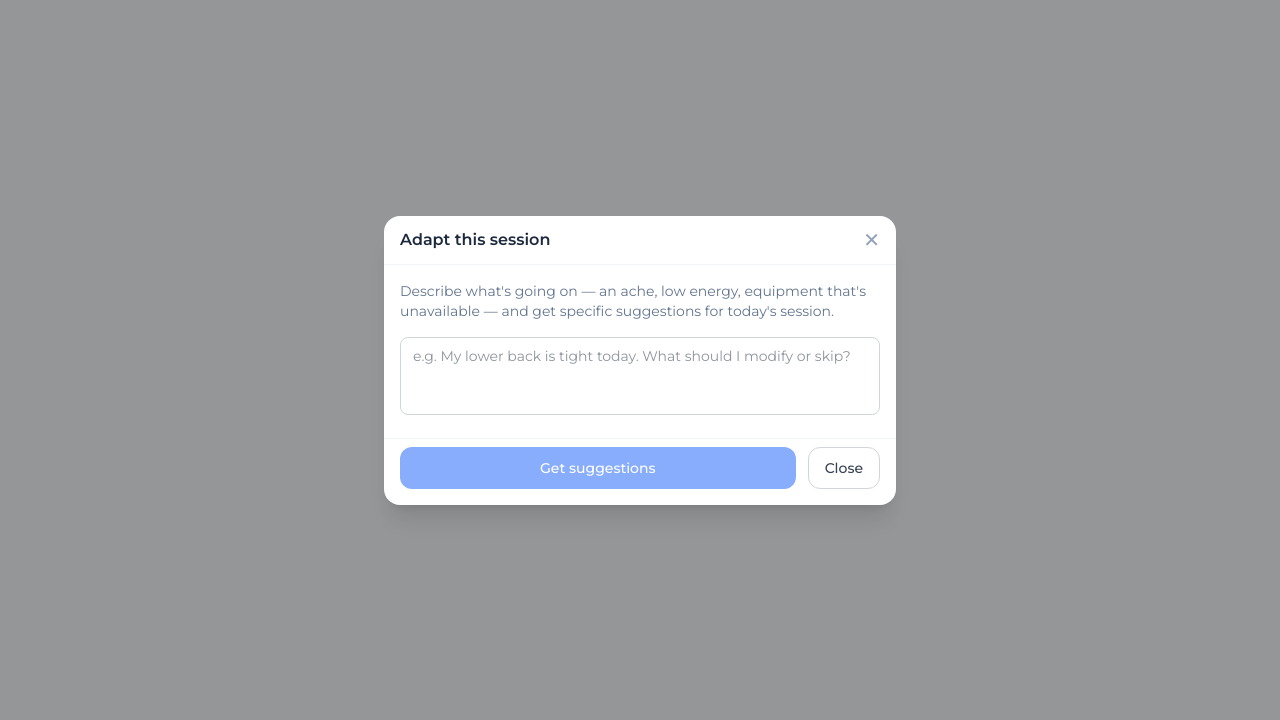
Scenario: AdaptSessionModal › renders suggestions text on success
This screenshot has width=1280, height=720.
Type "Bad knee today" into the text box.
click(640, 376); type("Bad knee today")  # box [400,336,880,414]
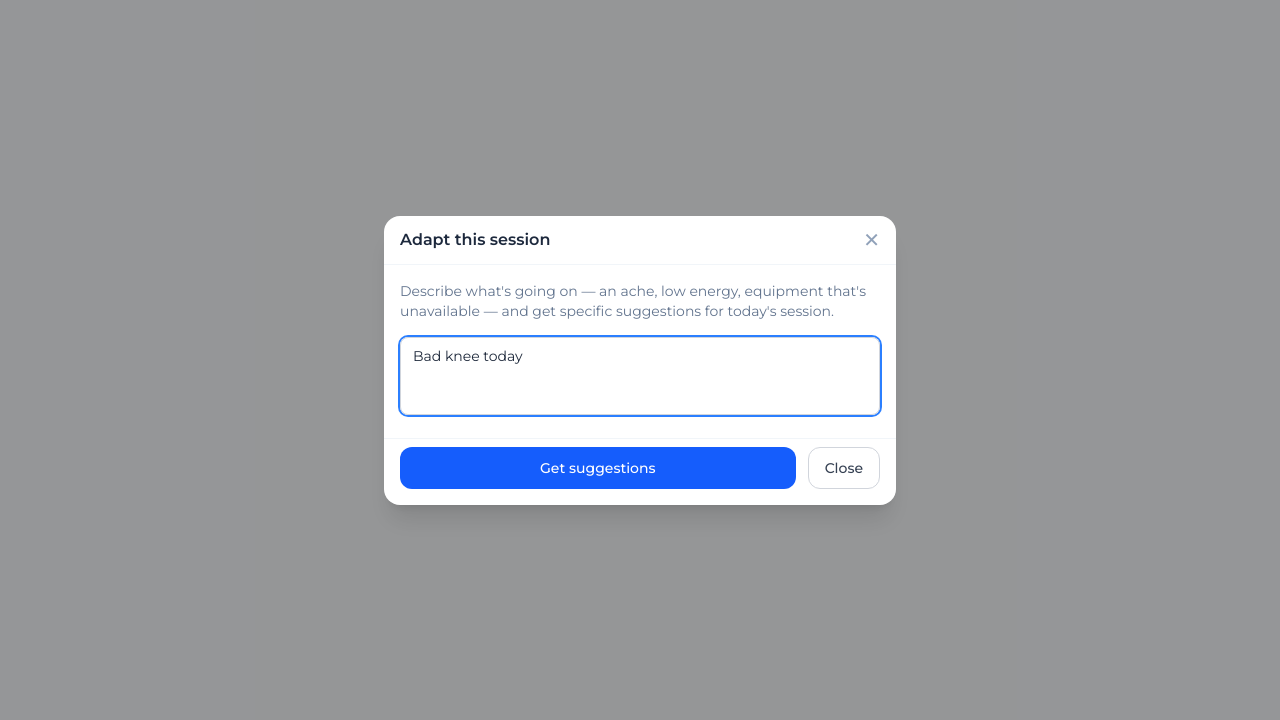
Click the button "Get suggestions".
click(598, 468)  # box [400,446,796,488]
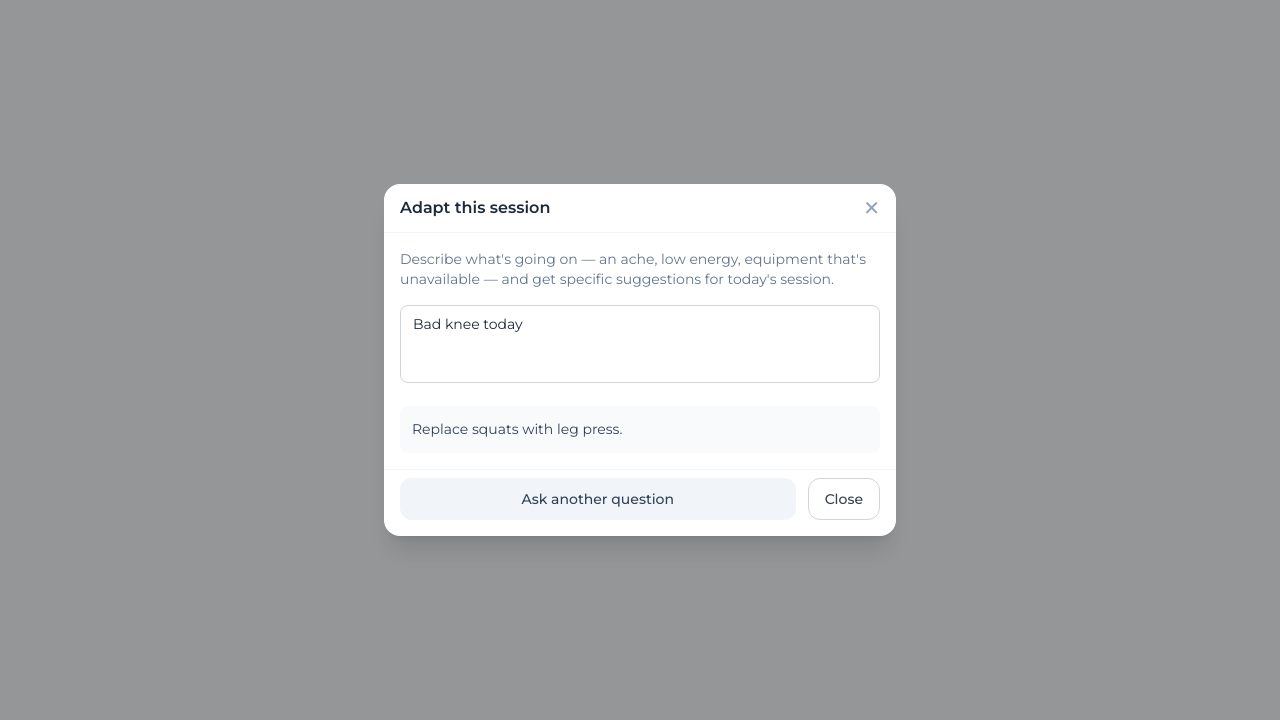
Expected: the text "Replace squats with leg press." is shown, [412,420,622,438]
